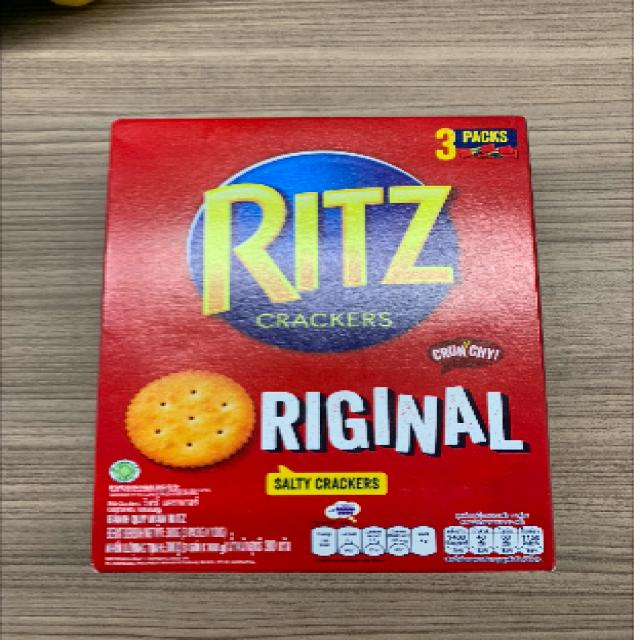object_name: (110, 127, 555, 563)
